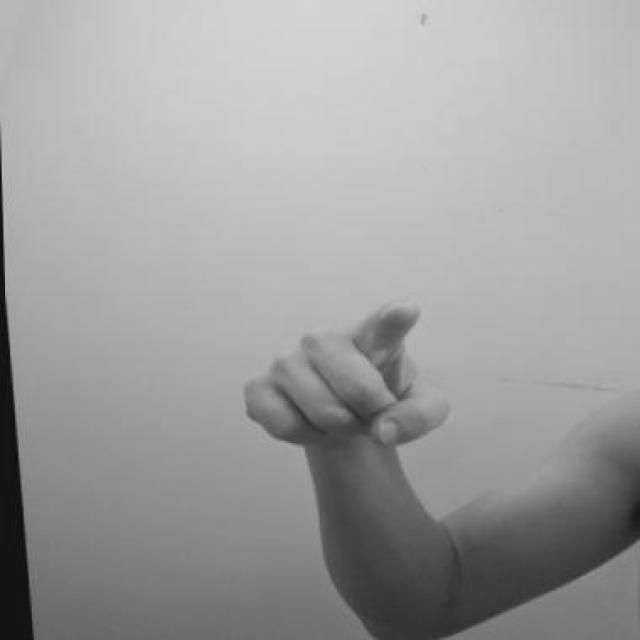Z: (227, 289, 458, 459)
